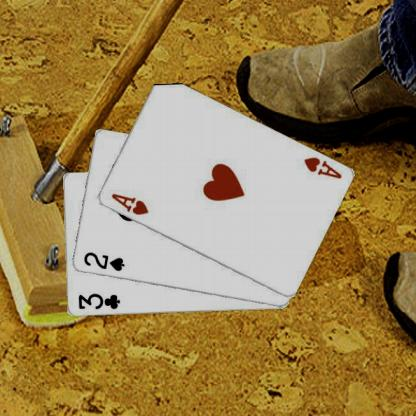2S: (81, 249, 126, 273)
3C: (75, 291, 121, 311)
AH: (108, 191, 150, 217), (301, 155, 343, 180)
